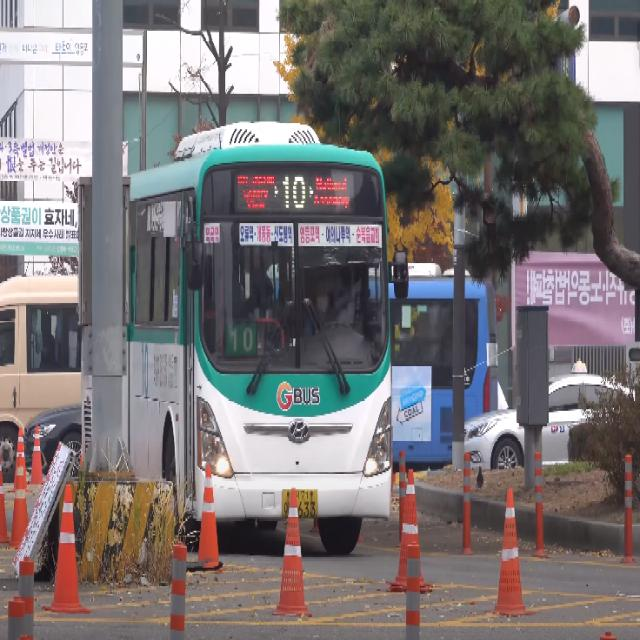bus-number: (282, 173, 306, 211)
